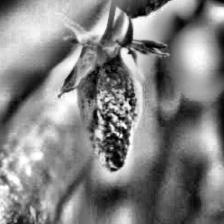Gray Mold: (57, 11, 171, 174)
